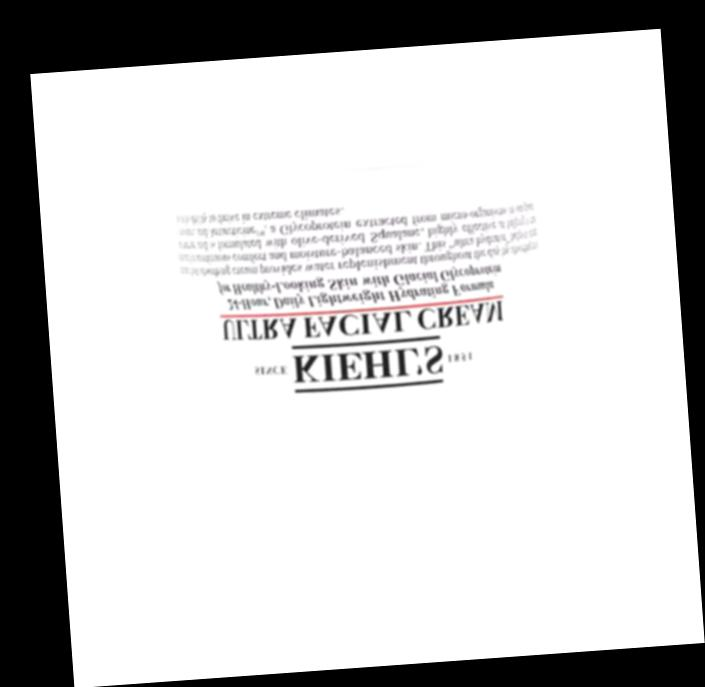cosmetic: (162, 154, 556, 489)
